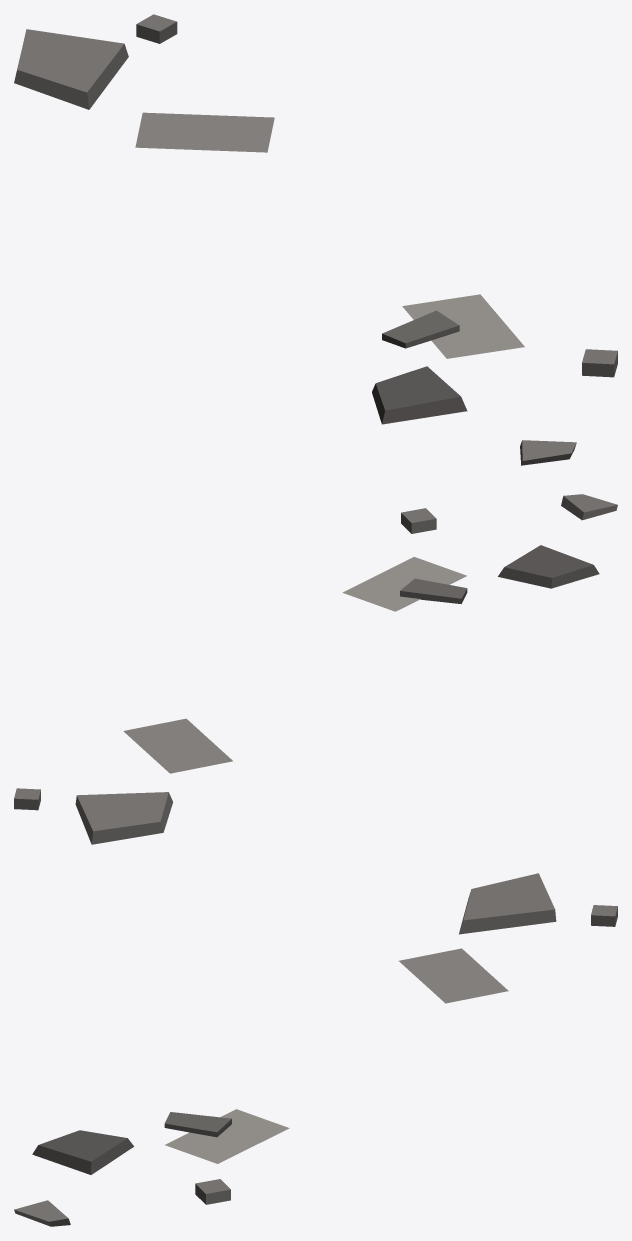
File: AI_Env_GroundDirt_08.fbx
3 renders of one model, top to bottom at view 1: azimuth 30°, elevation 25°; view 2: azimuth 150°, elevation 25°; view 3: azimuth 330°, elevation 25°, orthographic. The views are drawn at different scales.
Parts seen in each view (by area): view 1: AI_Env_GroundDirt_08; view 2: AI_Env_GroundDirt_08; view 3: AI_Env_GroundDirt_08.
Boxes of the visible parts, <box> form: AI_Env_GroundDirt_08: <box>14,14,617,465</box>; AI_Env_GroundDirt_08: <box>14,494,617,844</box>; AI_Env_GroundDirt_08: <box>14,873,617,1226</box>.
Bounding box in the file's own units: 1.16 × 0.0926 × 4.63.
